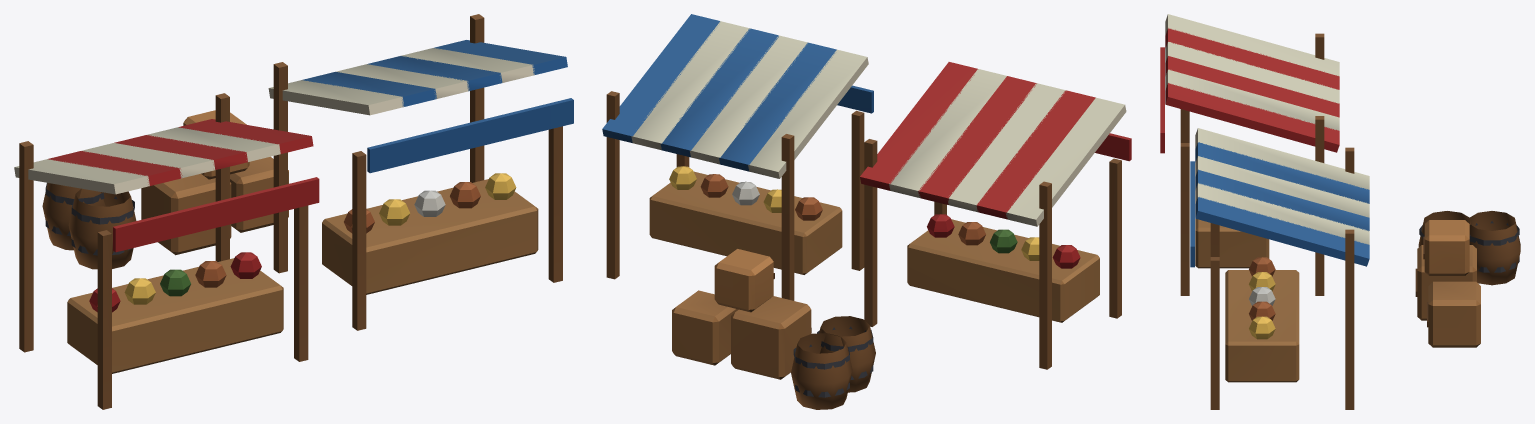
File: city_stalls.glb
3 renders of one model, left to right at view 1: azimuth 30°, elevation 25°; view 2: azimuth 150°, elevation 25°; view 3: azimuth 270°, elevation 25°, orthographic. The views are drawn at different scales.
Visible parts, largest first — view 1: city_stalls; view 2: city_stalls; view 3: city_stalls.
Part boxes in pixels (x1,y1,x2,y2): city_stalls: (14,14,573,409); city_stalls: (602,14,1131,409); city_stalls: (1160,14,1520,409).
Size of the model in its own units: 0.632 by 0.2912 by 0.481.
